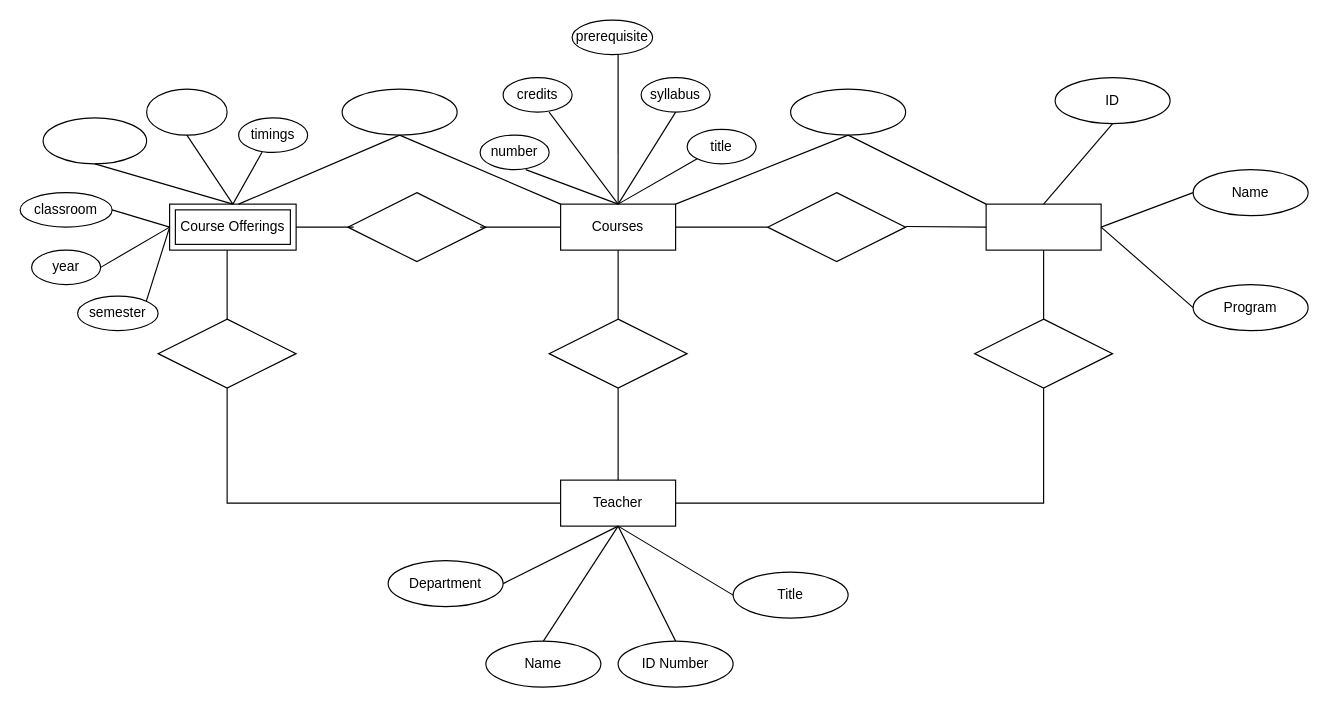
The diagram is 1328 pixels wide and 707 high, and some of its shapes have lost their labels. Here are the shapes that lost their labels. From the top down, the centre of each, then its label:
the point at 186,111: instructor
the point at 399,111: Course number
the point at 847,111: Grade
the point at 94,140: section number
the point at 416,226: has
the point at 836,226: Enrolls
the point at 1043,226: Student
the point at 226,353: offers
the point at 617,353: takes
the point at 1043,353: teaches
